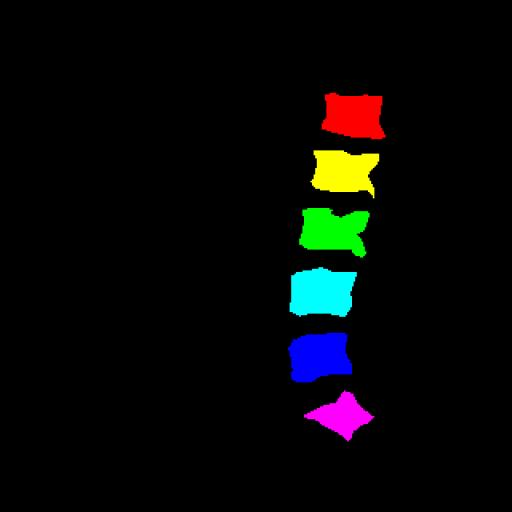L1: (322, 93, 385, 138)
L2: (311, 150, 379, 198)
L3: (299, 208, 370, 258)
L4: (290, 267, 357, 317)
L5: (288, 333, 352, 382)
S1: (304, 391, 374, 441)
